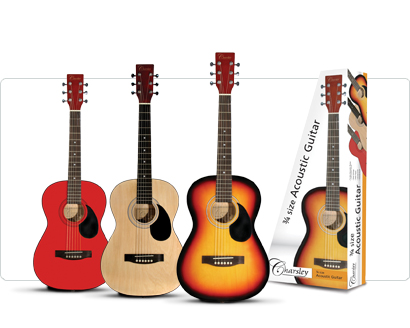guitar: (177, 51, 272, 304), (100, 60, 187, 298), (31, 73, 114, 294), (294, 75, 350, 290), (344, 67, 376, 127)
